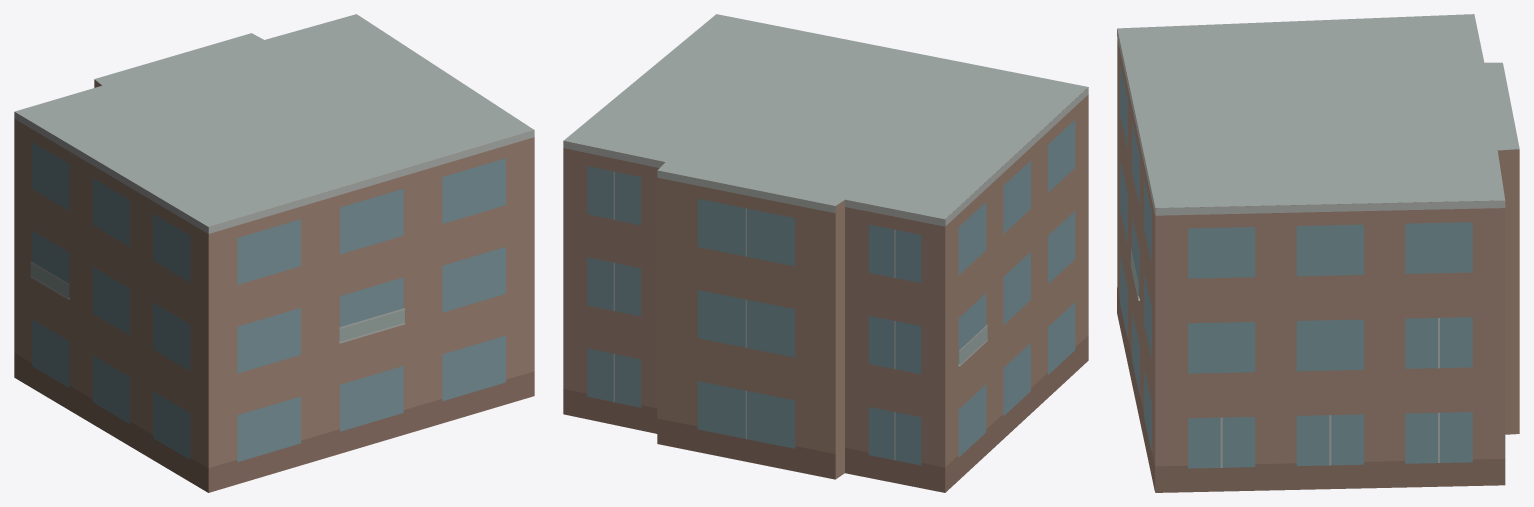
The model's file is survey-upis-32941196.glb.
3 renders of one model, left to right at view 1: azimuth 30°, elevation 25°; view 2: azimuth 150°, elevation 25°; view 3: azimuth 270°, elevation 25°, orthographic. The views are drawn at different scales.
Visible parts, largest first — view 1: survey-upis-32941196.tmp; view 2: survey-upis-32941196.tmp; view 3: survey-upis-32941196.tmp.
Part boxes in pixels (left/top/right/bottom): survey-upis-32941196.tmp: left=14, top=14, right=534, bottom=492; survey-upis-32941196.tmp: left=563, top=14, right=1088, bottom=492; survey-upis-32941196.tmp: left=1117, top=14, right=1519, bottom=492.
Size of the model in its own units: 13.38 by 9.15 by 11.73.
